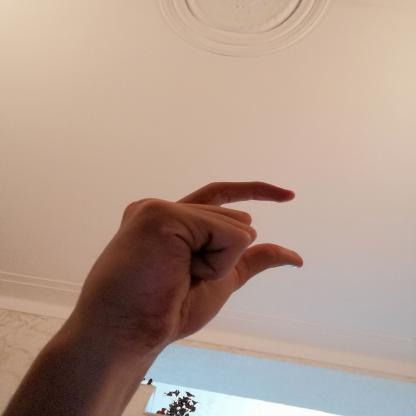DELL: (60, 168, 315, 366)
